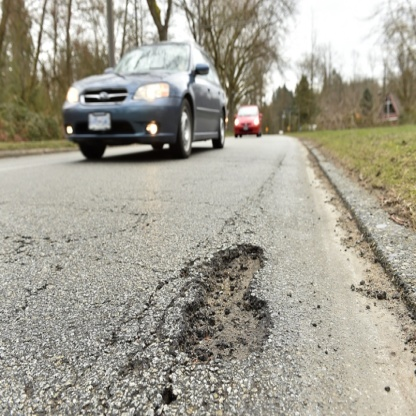pothole: (174, 232, 277, 371)
